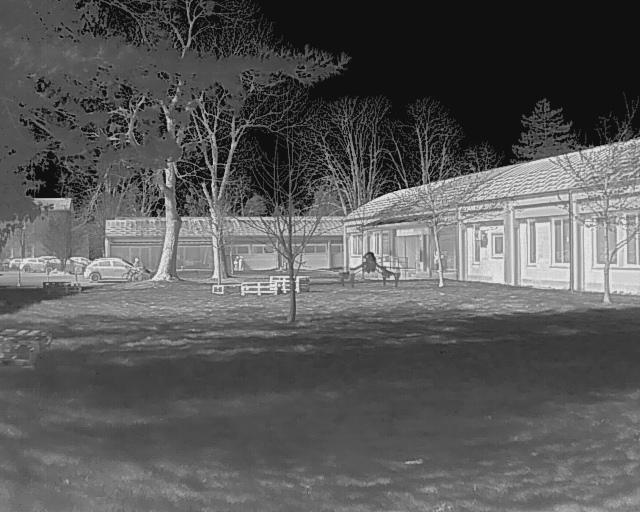drone: (331, 253, 401, 292)
